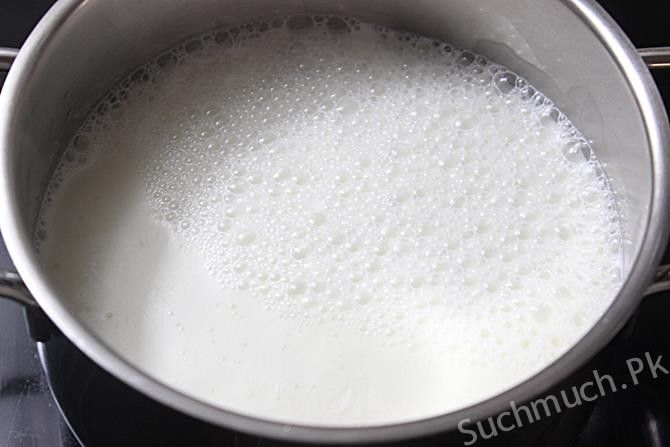Steaming: (29, 18, 650, 429)
